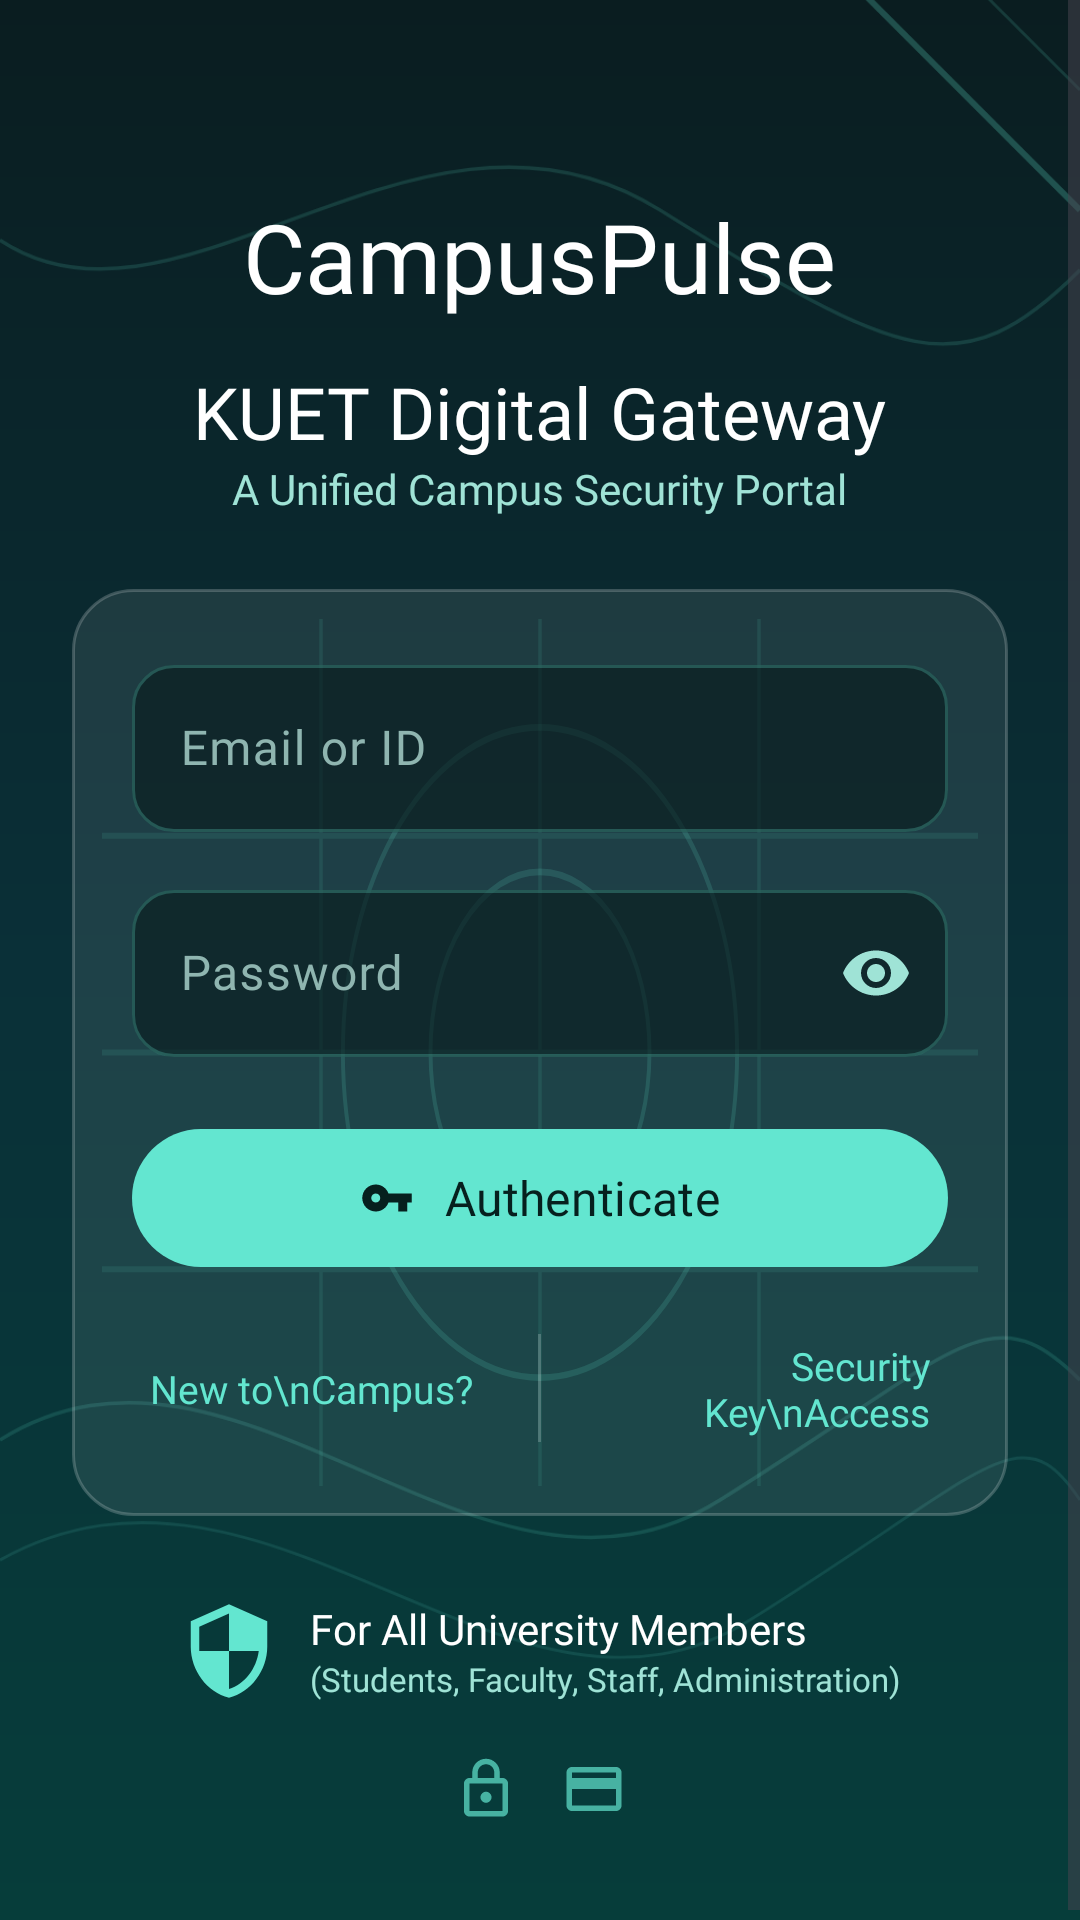

Icon bounding boxes for this 1080×1920 phone screenshot, format bbox=(x1, y1, x2, y2):
card: bbox=(566, 1767, 622, 1811)
lock sm: bbox=(464, 1758, 508, 1817)
shield: bbox=(190, 1604, 268, 1698)
